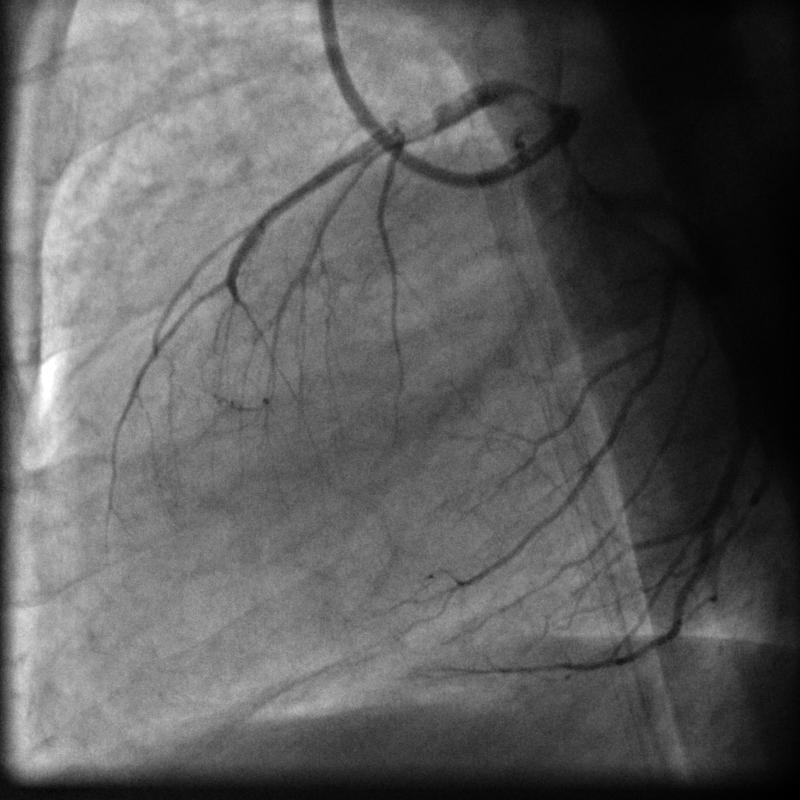Stenosis: (381, 98, 444, 146)
